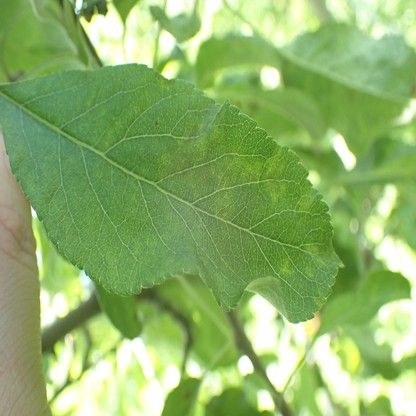scab: (162, 118, 210, 189), (265, 149, 284, 199), (303, 242, 321, 278), (218, 155, 236, 187), (214, 194, 233, 223), (242, 161, 259, 183), (299, 195, 313, 213), (280, 259, 293, 277)
